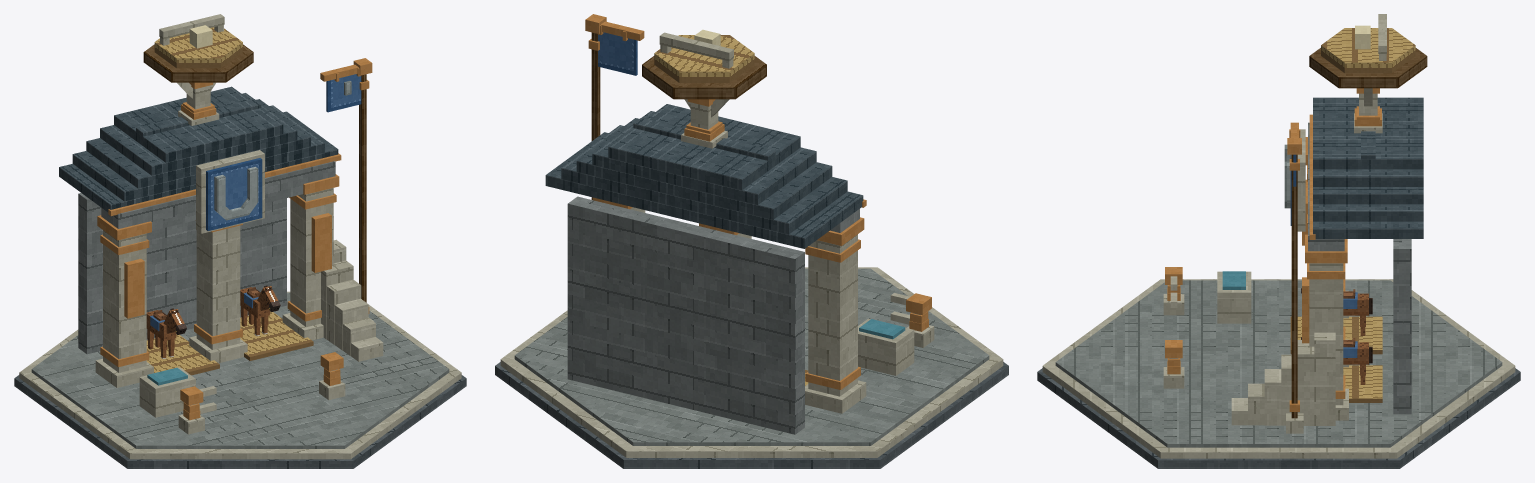
The model's file is dwarf_cavalry_mastery_hex_v1.glb.
The picture shows the model from 3 angles, left to right: view 1: azimuth 30°, elevation 25°; view 2: azimuth 150°, elevation 25°; view 3: azimuth 270°, elevation 25°; orthographic projection. The views are drawn at different scales.
Parts seen in each view (by area): view 1: Dwarf_Cavalry_Mastery_Hex_V1_Foundation, Dwarf_Cavalry_Mastery_Hex_V1_Hall, Dwarf_Cavalry_Mastery_Hex_V1_Roofs, Dwarf_Cavalry_Mastery_Hex_V1_Focus, Dwarf_Cavalry_Mastery_Hex_V1_Faction, Dwarf_Cavalry_Mastery_Hex_V1_Courtyard, Dwarf_Cavalry_Mastery_Hex_V1_Training, Dwarf_Cavalry_Mastery_Hex_V1_Details; view 2: Dwarf_Cavalry_Mastery_Hex_V1_Hall, Dwarf_Cavalry_Mastery_Hex_V1_Foundation, Dwarf_Cavalry_Mastery_Hex_V1_Roofs, Dwarf_Cavalry_Mastery_Hex_V1_Focus, Dwarf_Cavalry_Mastery_Hex_V1_Faction, Dwarf_Cavalry_Mastery_Hex_V1_Training, Dwarf_Cavalry_Mastery_Hex_V1_Details, Dwarf_Cavalry_Mastery_Hex_V1_Courtyard; view 3: Dwarf_Cavalry_Mastery_Hex_V1_Foundation, Dwarf_Cavalry_Mastery_Hex_V1_Roofs, Dwarf_Cavalry_Mastery_Hex_V1_Focus, Dwarf_Cavalry_Mastery_Hex_V1_Hall, Dwarf_Cavalry_Mastery_Hex_V1_Courtyard, Dwarf_Cavalry_Mastery_Hex_V1_Training, Dwarf_Cavalry_Mastery_Hex_V1_Faction, Dwarf_Cavalry_Mastery_Hex_V1_Details.
Part boxes in pixels (left/top/right/bottom): Dwarf_Cavalry_Mastery_Hex_V1_Foundation: left=14, top=291, right=466, bottom=468; Dwarf_Cavalry_Mastery_Hex_V1_Hall: left=78, top=161, right=339, bottom=387; Dwarf_Cavalry_Mastery_Hex_V1_Roofs: left=59, top=86, right=341, bottom=216; Dwarf_Cavalry_Mastery_Hex_V1_Focus: left=143, top=14, right=280, bottom=358; Dwarf_Cavalry_Mastery_Hex_V1_Faction: left=196, top=58, right=374, bottom=321; Dwarf_Cavalry_Mastery_Hex_V1_Courtyard: left=178, top=239, right=383, bottom=434; Dwarf_Cavalry_Mastery_Hex_V1_Training: left=139, top=311, right=313, bottom=417; Dwarf_Cavalry_Mastery_Hex_V1_Details: left=100, top=80, right=369, bottom=420; Dwarf_Cavalry_Mastery_Hex_V1_Hall: left=567, top=196, right=866, bottom=434; Dwarf_Cavalry_Mastery_Hex_V1_Foundation: left=495, top=267, right=1008, bottom=468; Dwarf_Cavalry_Mastery_Hex_V1_Roofs: left=545, top=104, right=866, bottom=248; Dwarf_Cavalry_Mastery_Hex_V1_Focus: left=642, top=29, right=766, bottom=148; Dwarf_Cavalry_Mastery_Hex_V1_Faction: left=585, top=14, right=644, bottom=199; Dwarf_Cavalry_Mastery_Hex_V1_Training: left=805, top=318, right=914, bottom=385; Dwarf_Cavalry_Mastery_Hex_V1_Details: left=588, top=39, right=928, bottom=389; Dwarf_Cavalry_Mastery_Hex_V1_Courtyard: left=890, top=293, right=934, bottom=347; Dwarf_Cavalry_Mastery_Hex_V1_Foundation: left=1037, top=279, right=1520, bottom=468; Dwarf_Cavalry_Mastery_Hex_V1_Roofs: left=1309, top=97, right=1423, bottom=239; Dwarf_Cavalry_Mastery_Hex_V1_Focus: left=1301, top=14, right=1427, bottom=384; Dwarf_Cavalry_Mastery_Hex_V1_Hall: left=1305, top=122, right=1411, bottom=420; Dwarf_Cavalry_Mastery_Hex_V1_Courtyard: left=1163, top=267, right=1335, bottom=425; Dwarf_Cavalry_Mastery_Hex_V1_Training: left=1217, top=271, right=1382, bottom=402; Dwarf_Cavalry_Mastery_Hex_V1_Faction: left=1284, top=122, right=1305, bottom=433; Dwarf_Cavalry_Mastery_Hex_V1_Details: left=1167, top=88, right=1379, bottom=411.
Size of the model in its own units: 1.59 by 1.47 by 1.84.
Materials: 1 (1 with a texture image).
